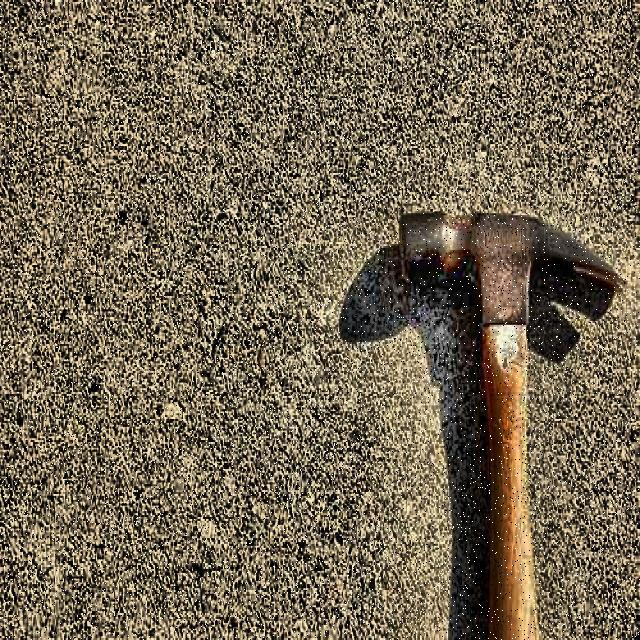hammer: (399, 208, 629, 640)
